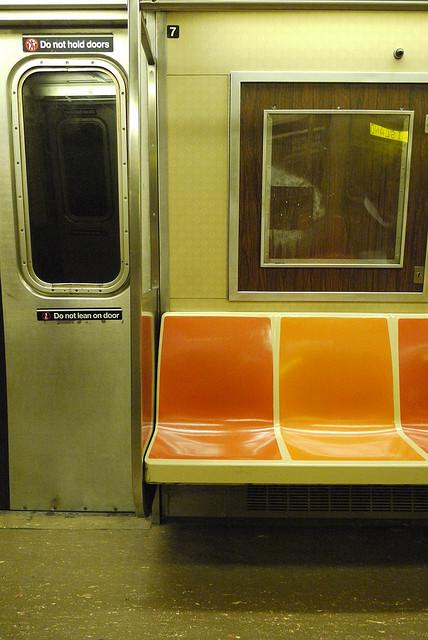Train: (0, 4, 426, 636)
